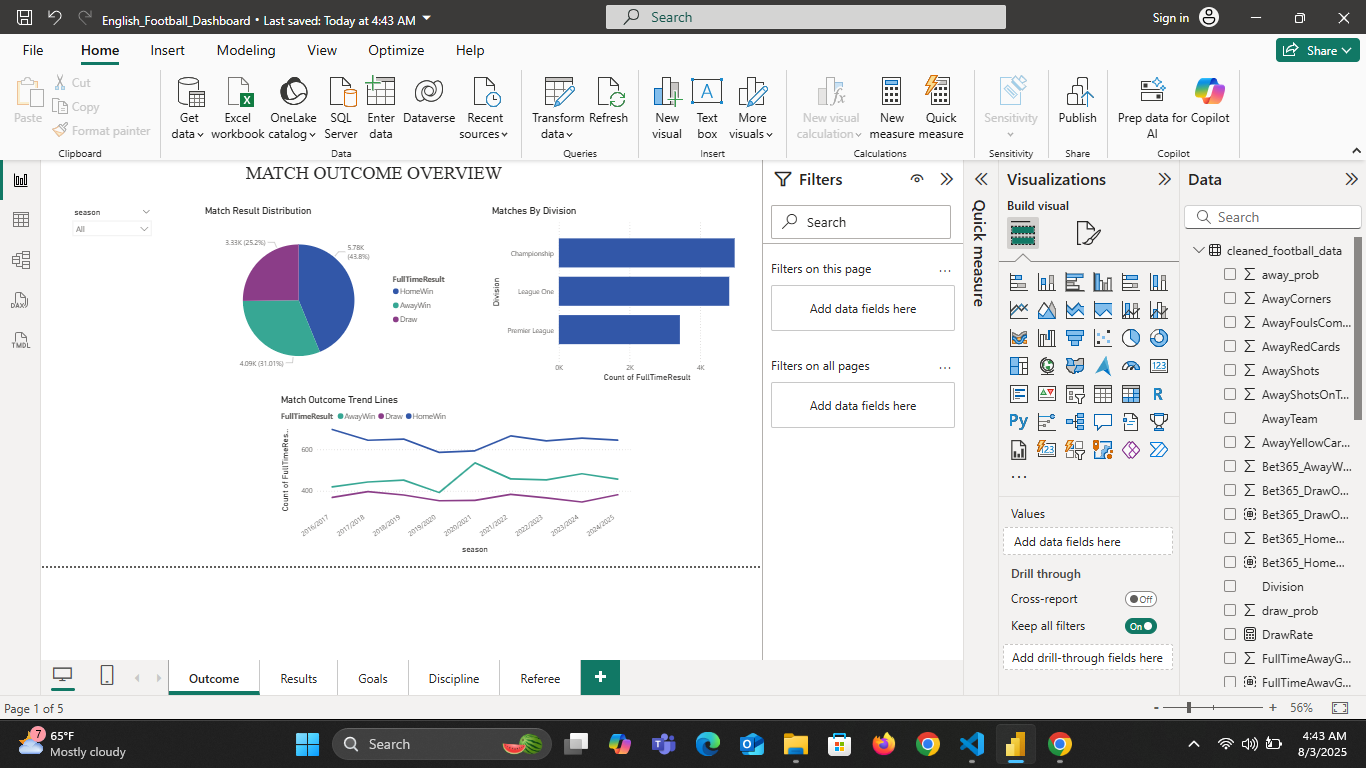

The dashboard page shown, as its layout file describes it:
{"tool":"powerbi","page":{"name":"Outcome","canvas":[1280,720],"ordinal":0},"visuals":[{"type":"textbox","box":[359.5,0,530.8,80.6],"z":0},{"type":"pieChart","title":"Match Result Distribution","fields":{"Category":["cleaned_football_data.FullTimeResult"],"Y":["CountNonNull(cleaned_football_data.FullTimeResult)"]},"box":[285.6,80.6,450.2,319.2],"z":1000},{"type":"clusteredBarChart","title":"Matches By Division","fields":{"Category":["cleaned_football_data.Division"],"Y":["CountNonNull(cleaned_football_data.FullTimeResult)"]},"box":[796.2,80.6,450.2,319.2],"z":2000},{"type":"slicer","fields":{"Values":["cleaned_football_data.season"]},"box":[47,80.6,159.6,319.2],"z":3000},{"type":"lineChart","title":"Match Outcome Trend Lines","fields":{"Y":["CountNonNull(cleaned_football_data.FullTimeResult)"],"Series":["cleaned_football_data.FullTimeResult"],"Category":["cleaned_football_data.season"]},"box":[421.6,414.9,633.3,288.9],"z":4000}]}

Visuals, with their boxes on the page's 1280x720 design canvas (x1, y1, x2, y2). These are canvas units, not pixel positions in the 1366x768 screenshot, which may show the page scaled, cropped or inside an application window:
textbox: bbox=(360, 0, 890, 81)
"Match Result Distribution" pieChart: bbox=(286, 81, 736, 400)
"Matches By Division" clusteredBarChart: bbox=(796, 81, 1246, 400)
slicer - cleaned_football_data.season: bbox=(47, 81, 207, 400)
"Match Outcome Trend Lines" lineChart: bbox=(422, 415, 1055, 704)
